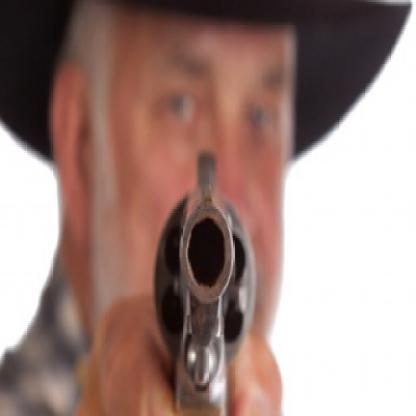gun: (153, 139, 259, 414)
